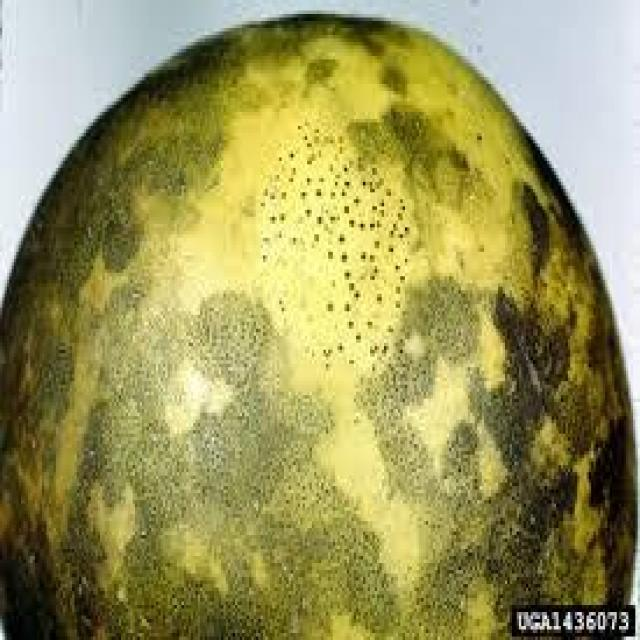Rotten: (21, 35, 627, 640)
